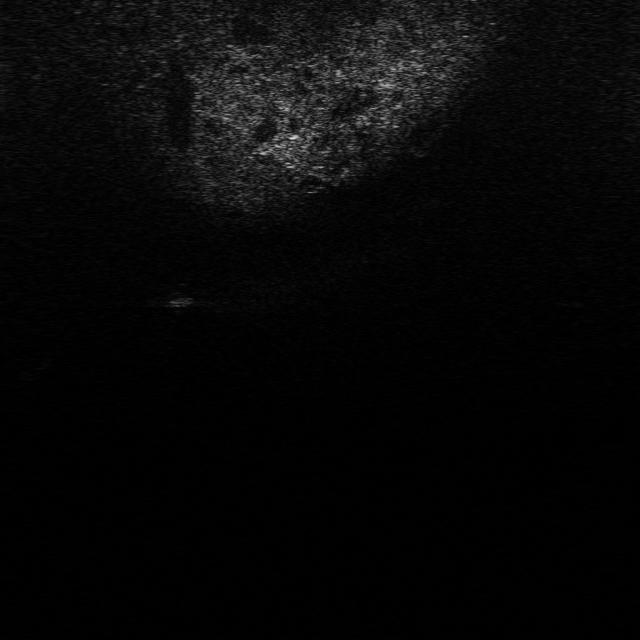cube: (160, 285, 198, 312)
